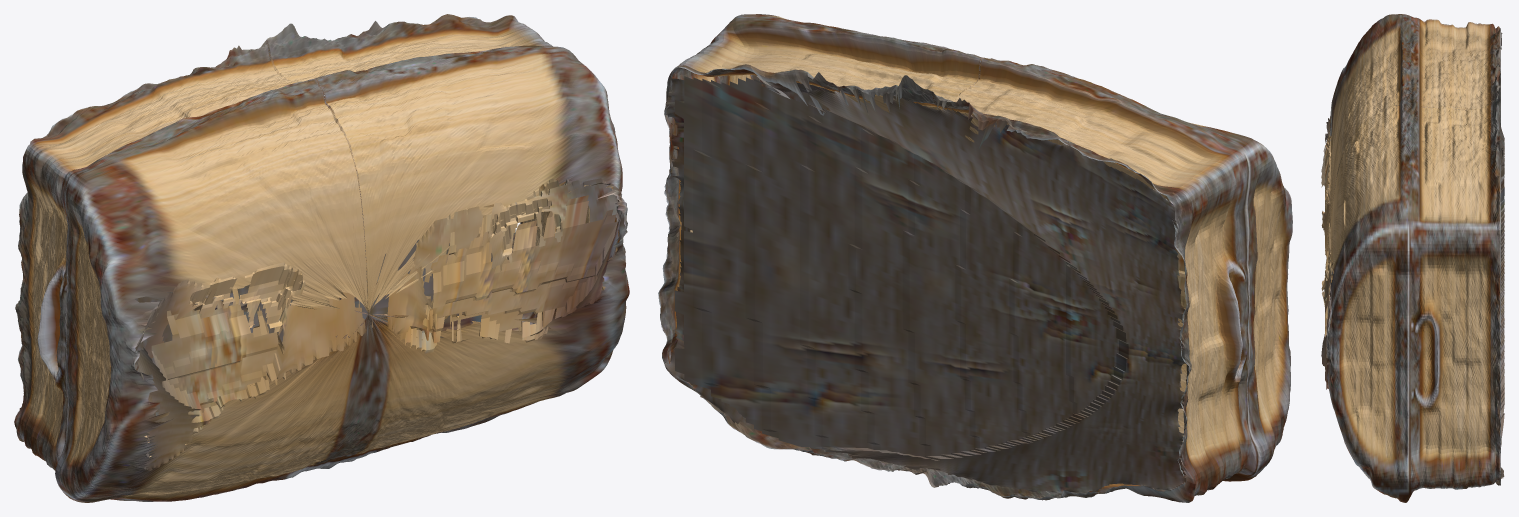
The model's file is snap12_mesh.glb.
The picture shows the model from 3 angles, left to right: view 1: azimuth 30°, elevation 25°; view 2: azimuth 150°, elevation 25°; view 3: azimuth 270°, elevation 25°; orthographic projection. The views are drawn at different scales.
Parts seen in each view (by area): view 1: ipn, fill; view 2: fill, ipn; view 3: ipn, fill.
Part boxes in pixels (x1=…): ipn: x1=14, y1=14, x2=629, y2=502; fill: x1=18, y1=42, x2=621, y2=470; fill: x1=665, y1=76, x2=1186, y2=493; ipn: x1=658, y1=14, x2=1292, y2=502; ipn: x1=1326, y1=14, x2=1500, y2=502; fill: x1=1321, y1=32, x2=1504, y2=478.
Bounding box in the file's own units: 1.83 × 1.29 × 0.6301.
2 materials, 1 textured.
